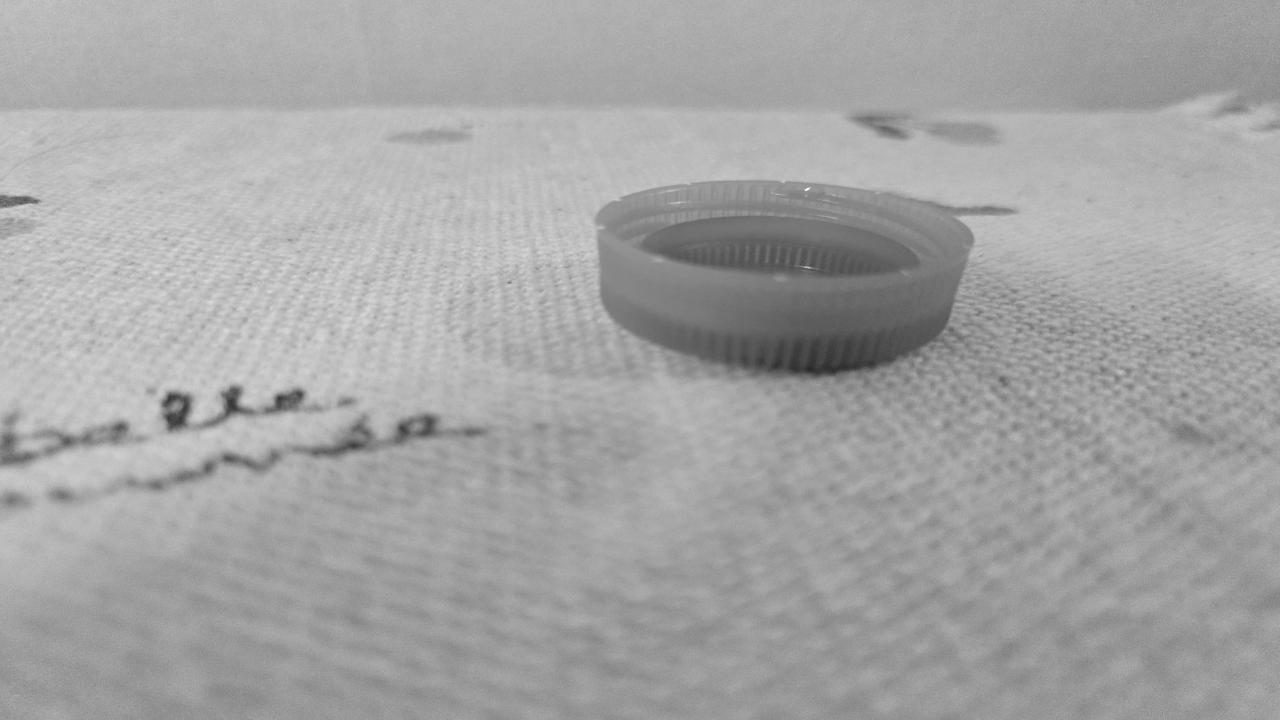bottle_cap: (590, 176, 979, 374)
